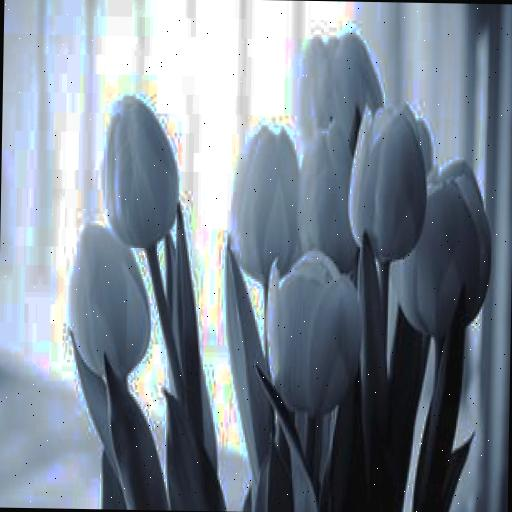tulip: (266, 246, 363, 416), (68, 223, 154, 378), (346, 103, 428, 263), (101, 96, 182, 246), (228, 127, 302, 284)
